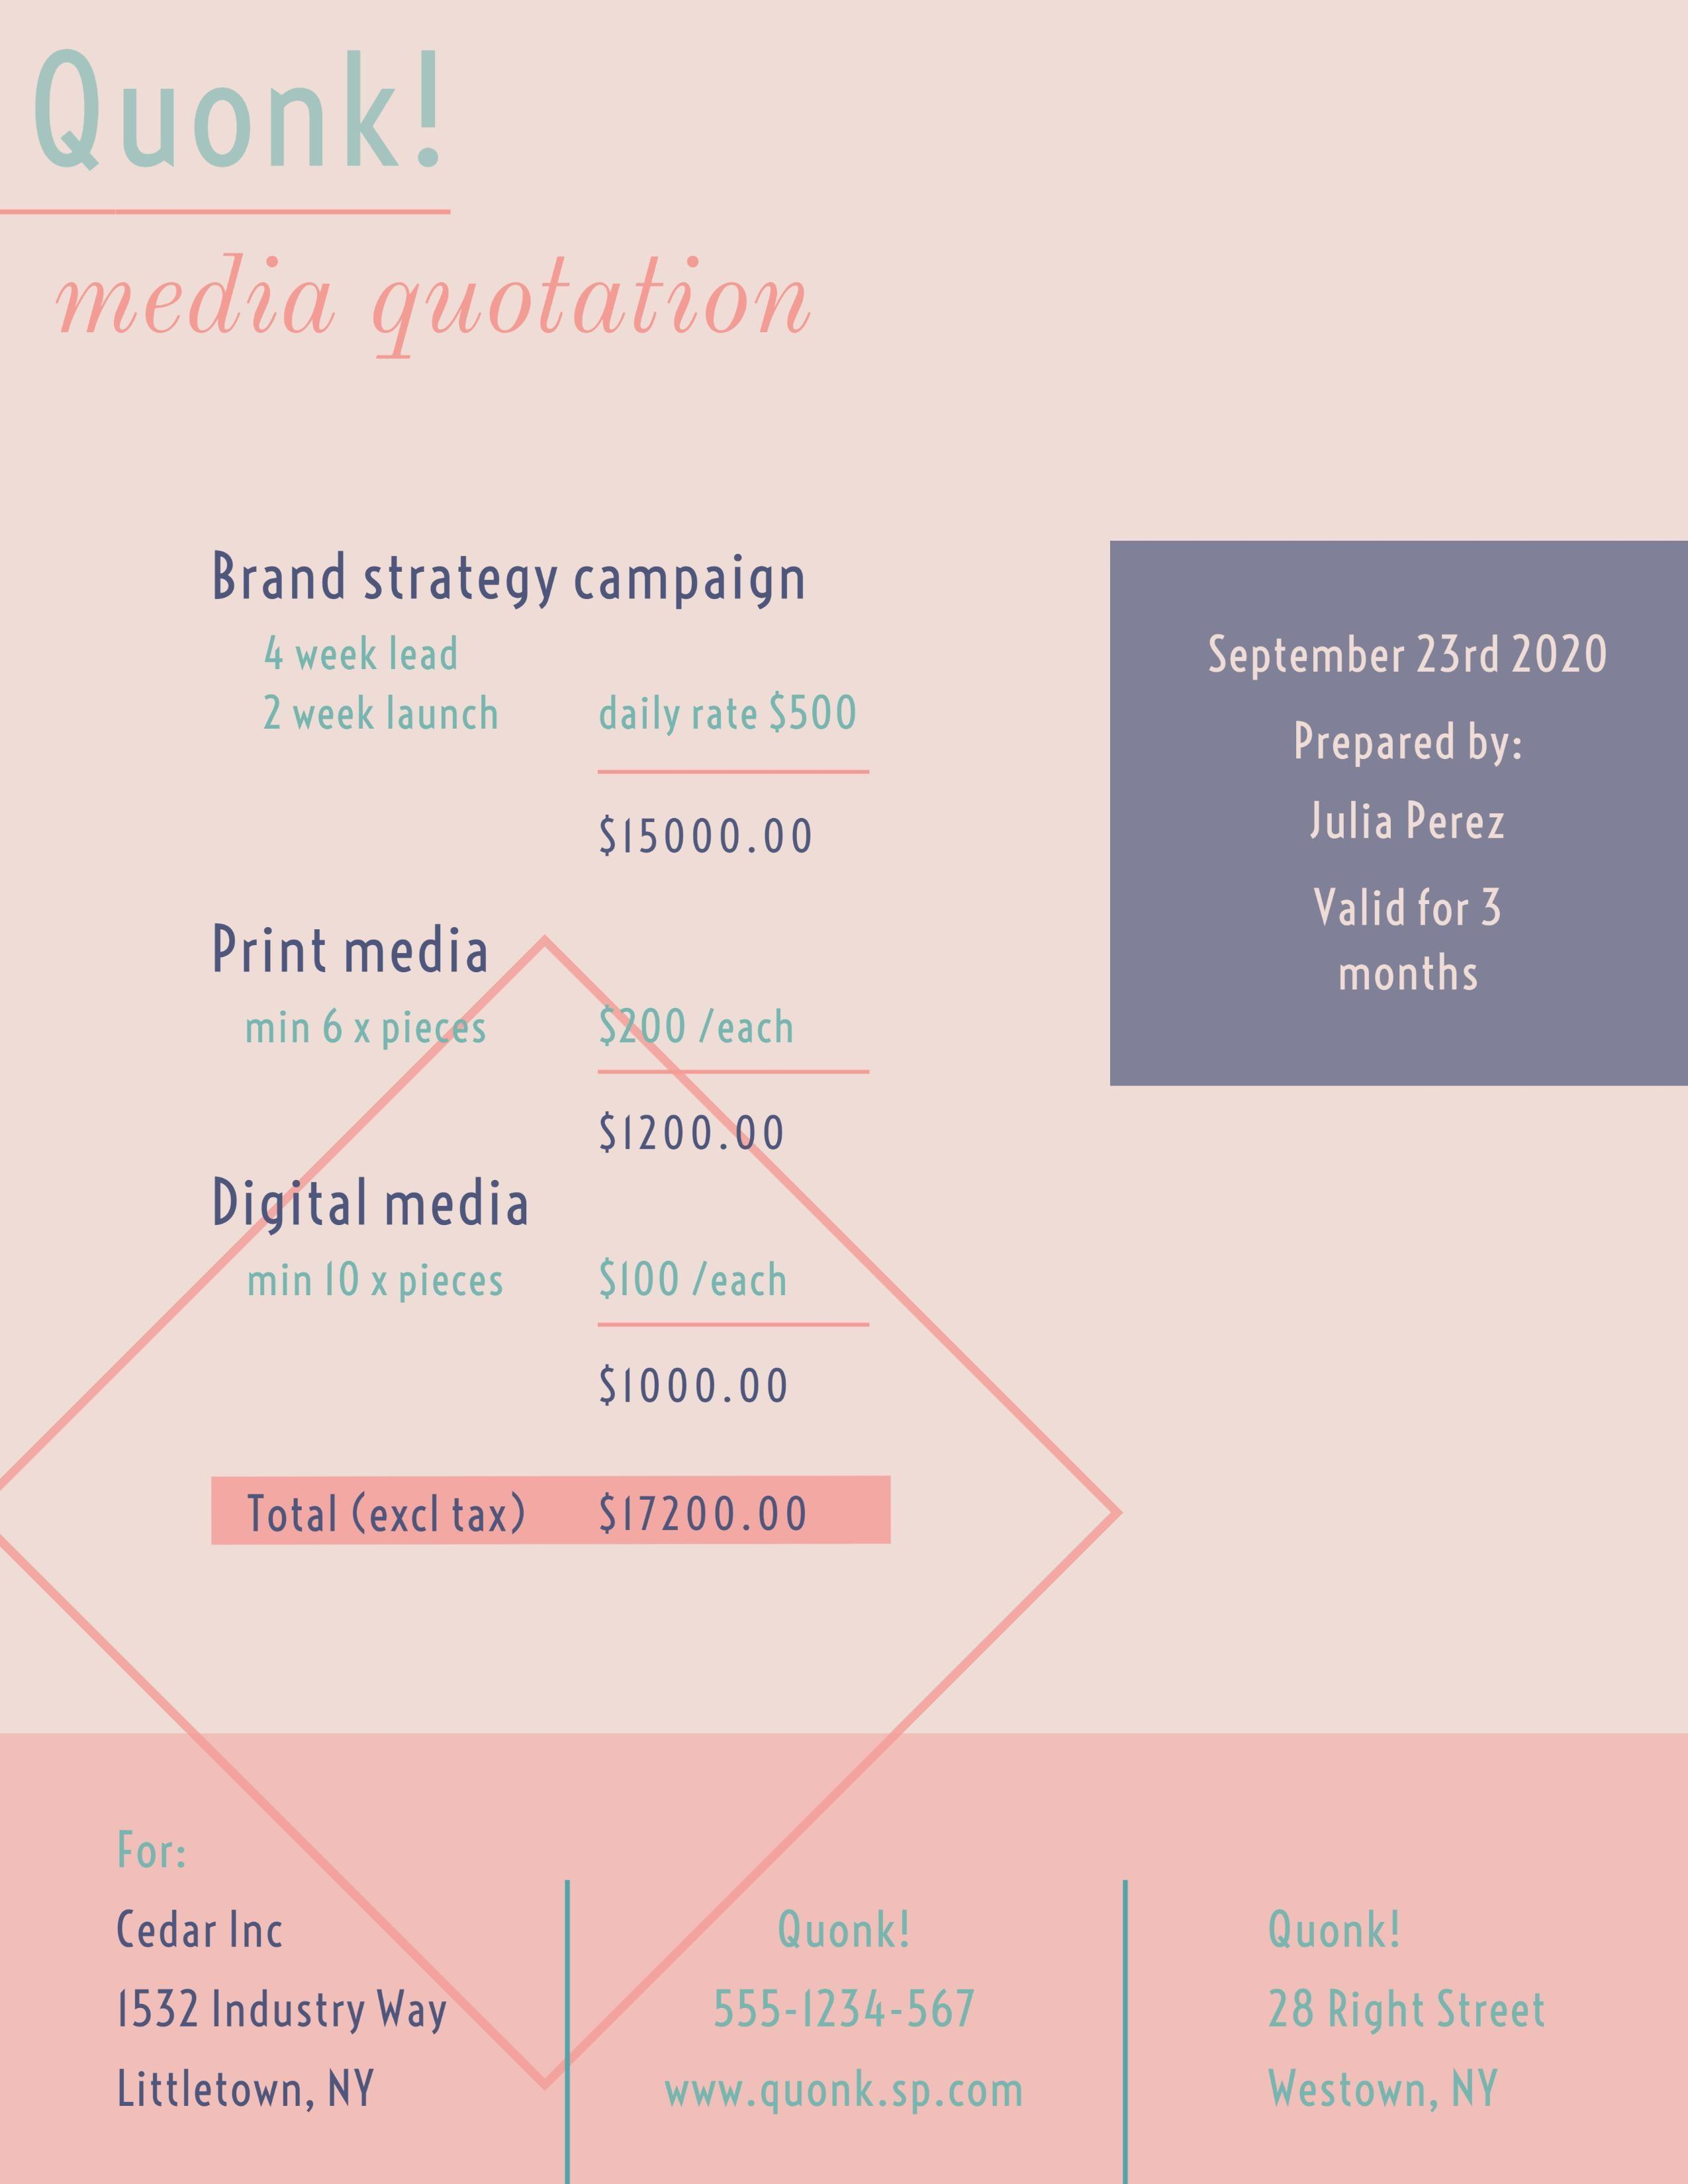ROI: (190, 537, 874, 1423), (1168, 585, 1653, 1035), (1177, 1856, 1619, 2184), (85, 1812, 463, 2184), (215, 1482, 892, 1551)
